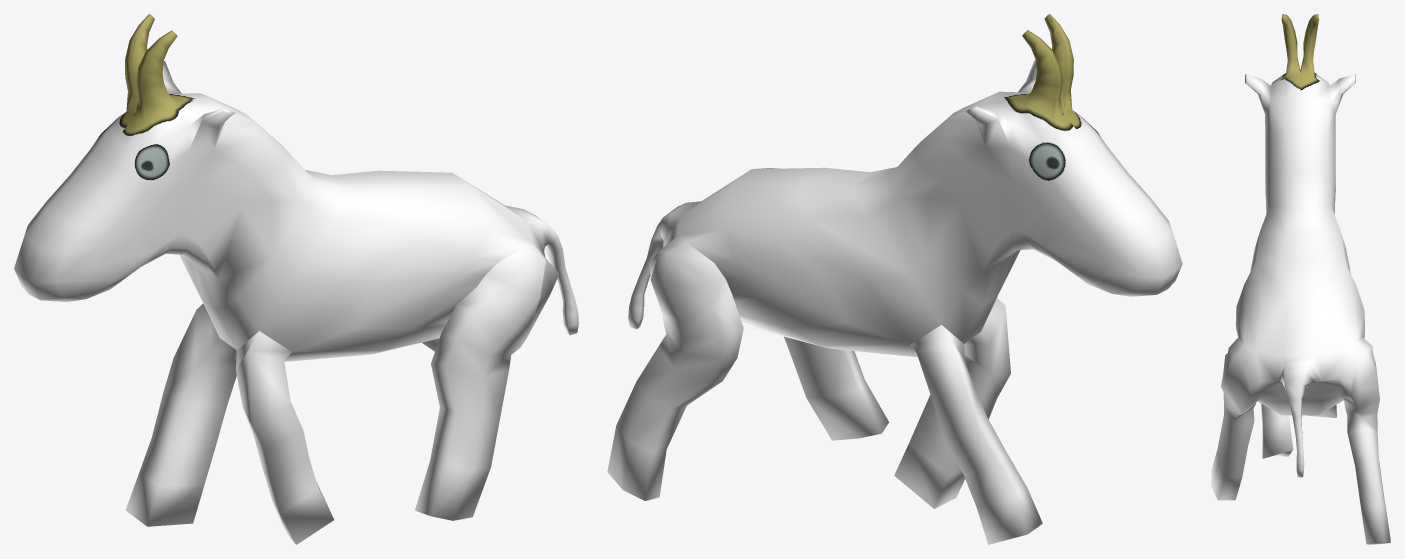
File: goatAnim_000004.obj
The picture shows the model from 3 angles, left to right: view 1: azimuth 30°, elevation 25°; view 2: azimuth 150°, elevation 25°; view 3: azimuth 270°, elevation 25°; orthographic projection. The views are drawn at different scales.
Parts seen in each view (by area): view 1: Cube; view 2: Cube; view 3: Cube.
Boxes of the visible parts, left/top/right/bottom form: Cube: left=14, top=14, right=578, bottom=544; Cube: left=607, top=14, right=1182, bottom=544; Cube: left=1211, top=14, right=1390, bottom=544.
Bounding box in the file's own units: 1.31 × 1.2 × 0.4842.
